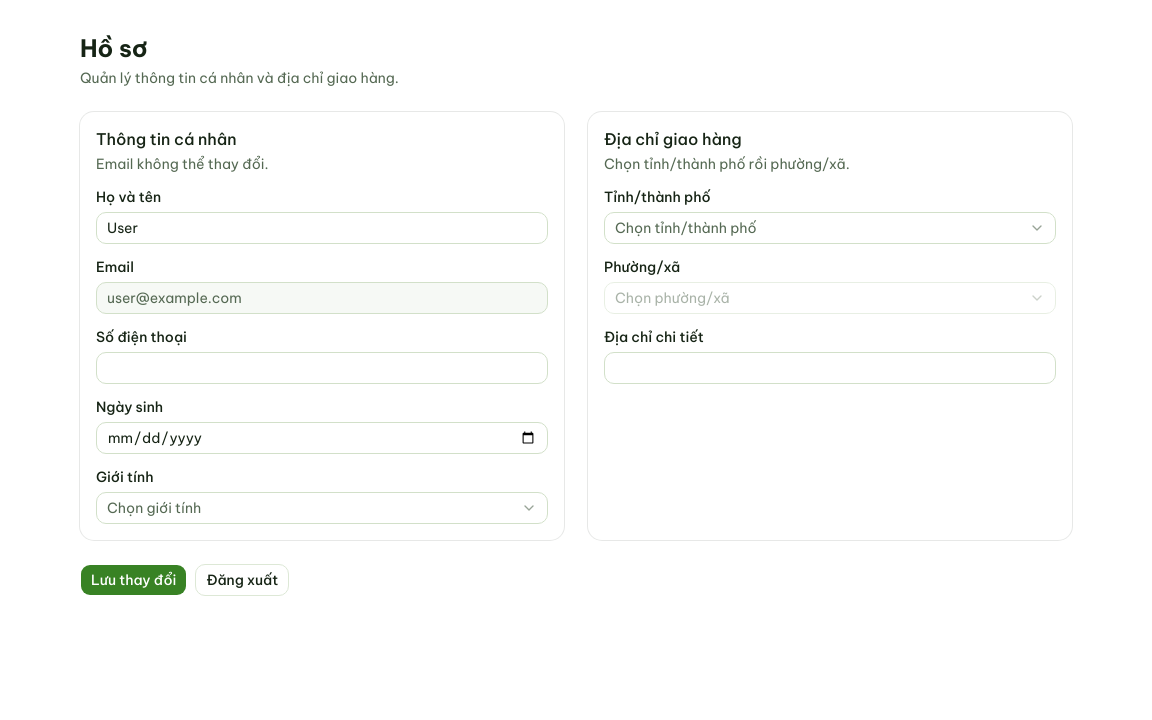
Test: keeps the ward selector disabled until a province is chosen
Expected: the button labelled "Chọn phường/xã" is disabled, [604,282,1056,314]
Step 1. Click the button labelled "Chọn tỉnh/thành phố" → (686, 228), box [604,212,1056,244]
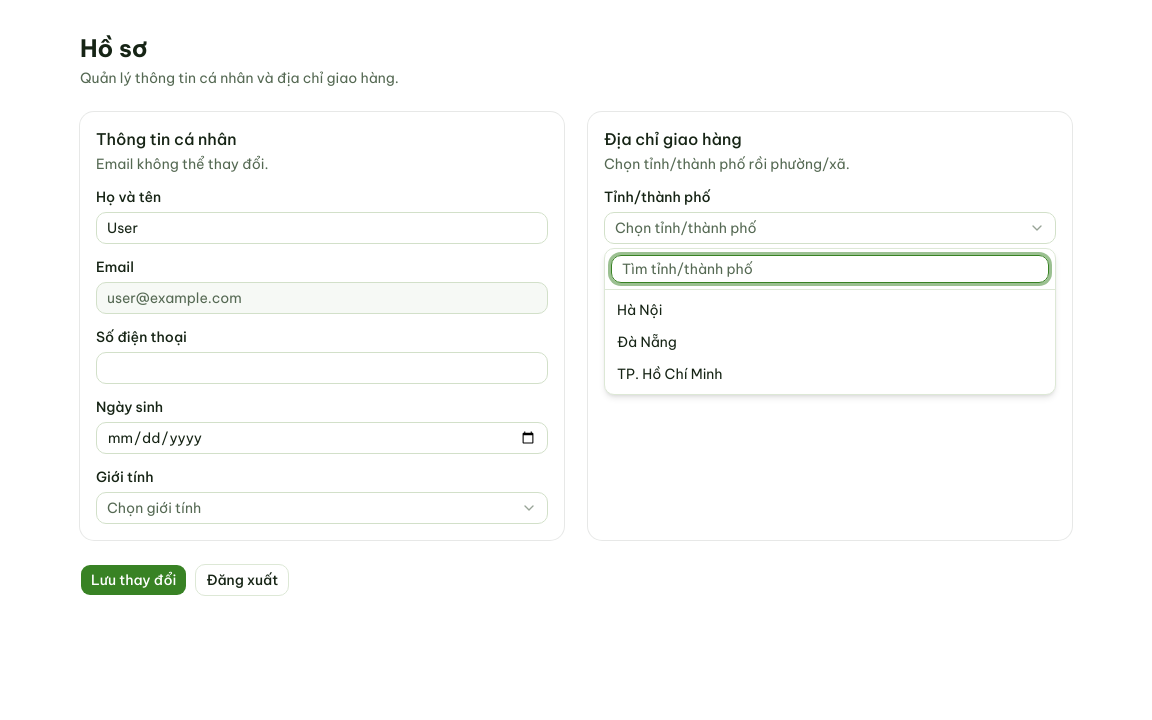
Step 2. Click the option "TP. Hồ Chí Minh" → (670, 374), box [609,358,1051,390]
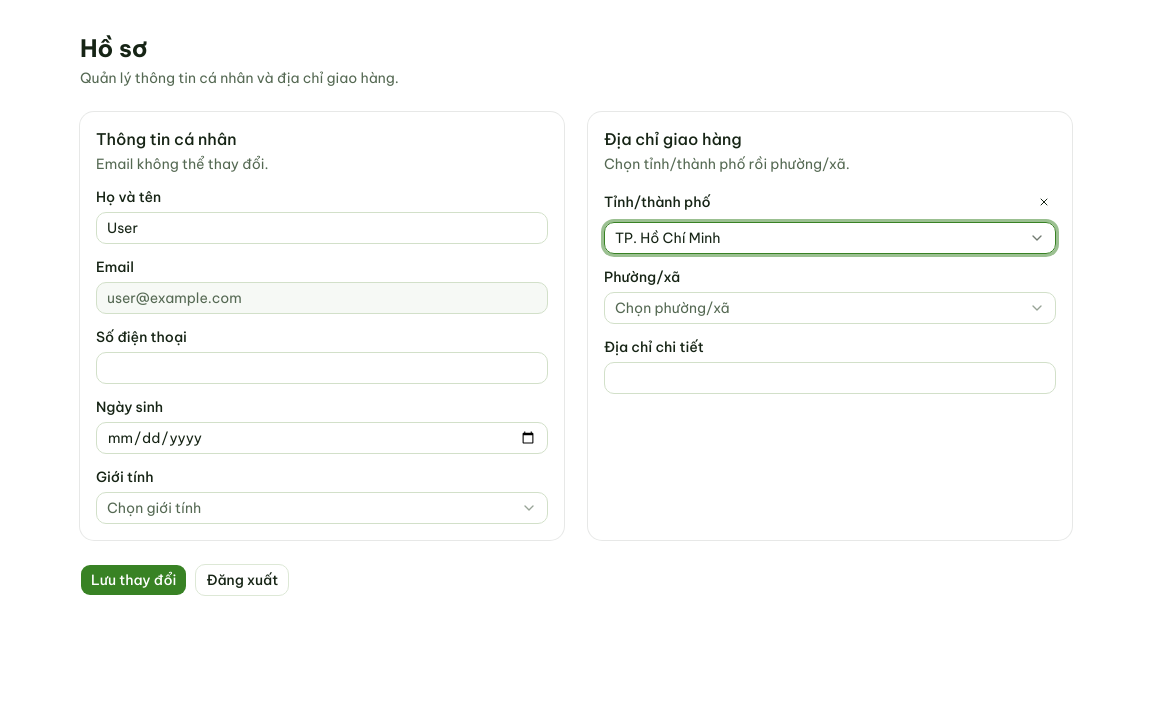
Expected: the button labelled "Chọn phường/xã" is enabled, [604,292,1056,324]
